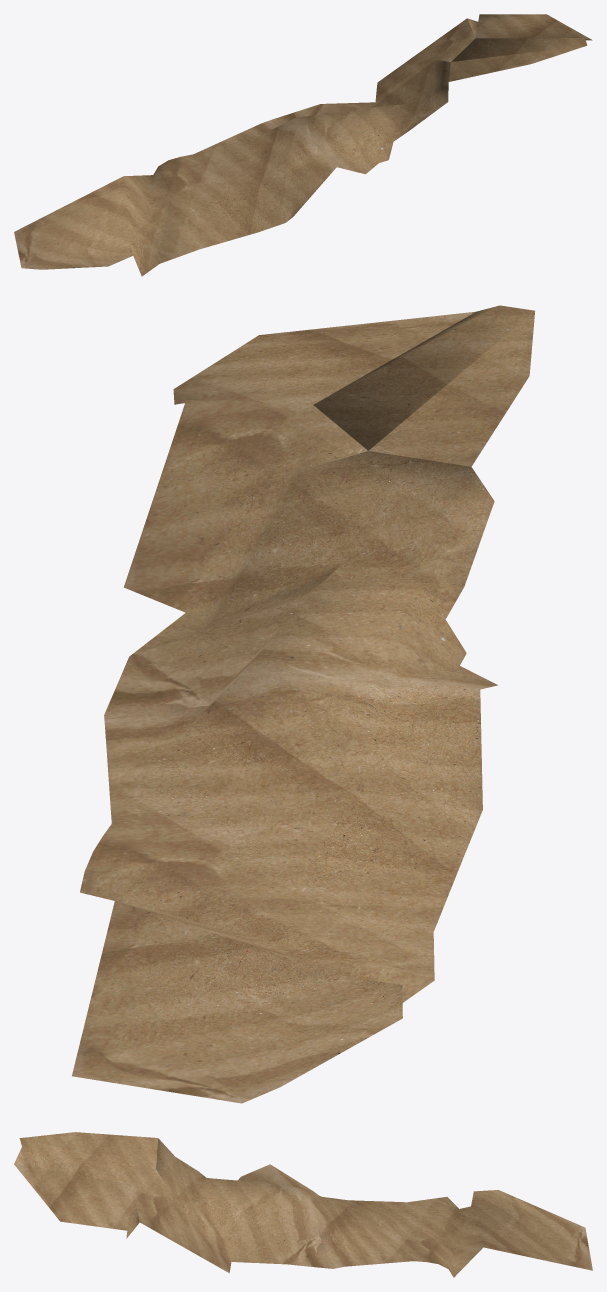
File: pintablerotado 1.fbx
3 views of the same model, one above another, from view 1: azimuth 90°, elevation 25°; view 2: azimuth 150°, elevation 25°; view 3: azimuth 270°, elevation 25° (orthographic). The views are drawn at different scales.
Parts seen in each view (by area): view 1: roca1_low__15_; view 2: roca1_low__15_; view 3: roca1_low__15_.
Boxes of the visible parts, bbox=[...] form: roca1_low__15_: bbox=[14, 14, 592, 276]; roca1_low__15_: bbox=[72, 305, 534, 1103]; roca1_low__15_: bbox=[14, 1132, 592, 1277].
Bounding box in the file's own units: 2097 × 3503 × 1102.
